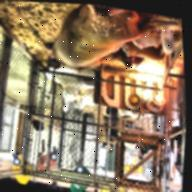boar: (37, 2, 180, 90)
